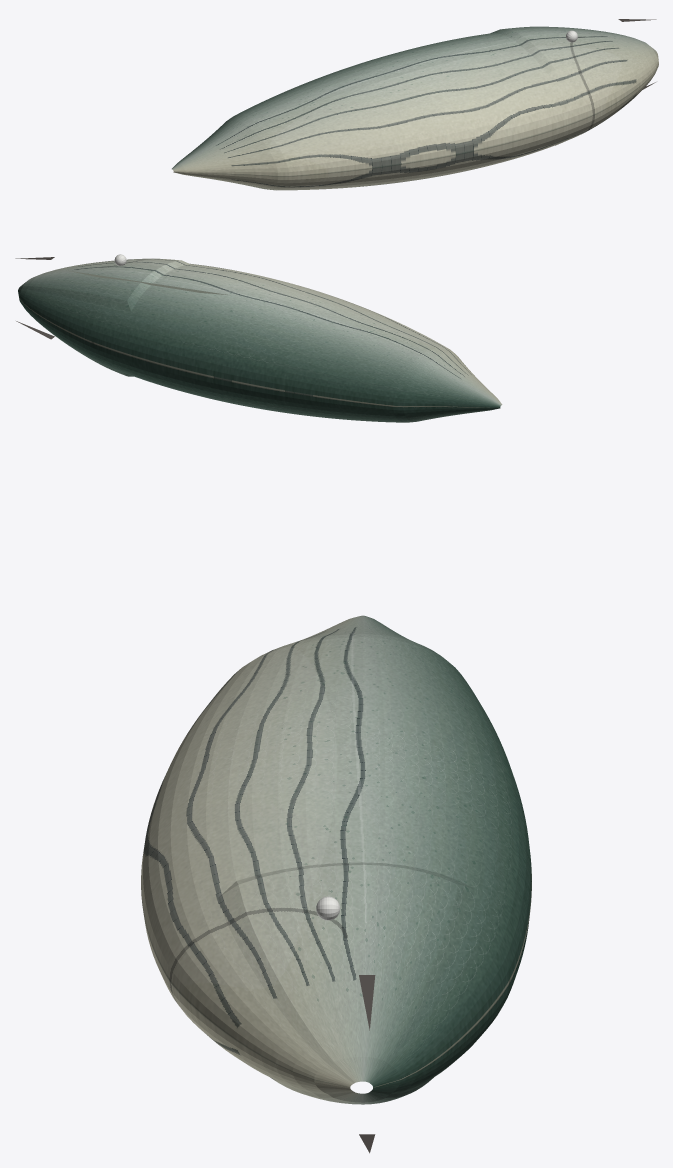
The model's file is striped_bass_rockfish_photoreal_style.glb.
3 views of the same model, one above another, from view 1: azimuth 30°, elevation 25°; view 2: azimuth 150°, elevation 25°; view 3: azimuth 270°, elevation 25° (orthographic). The views are drawn at different scales.
Parts seen in each view (by area): view 1: body; view 2: body, pectoral_fin_1; view 3: body.
Boxes of the visible parts, x1,y1,x2,y2 form: body: (172,26,658,190); body: (18,258,502,422); pectoral_fin_1: (66,270,227,294); body: (141,615,531,1104).
Size of the model in its own units: 4.53 by 0.792 by 1.25.
Materials: 1 (1 with a texture image).
